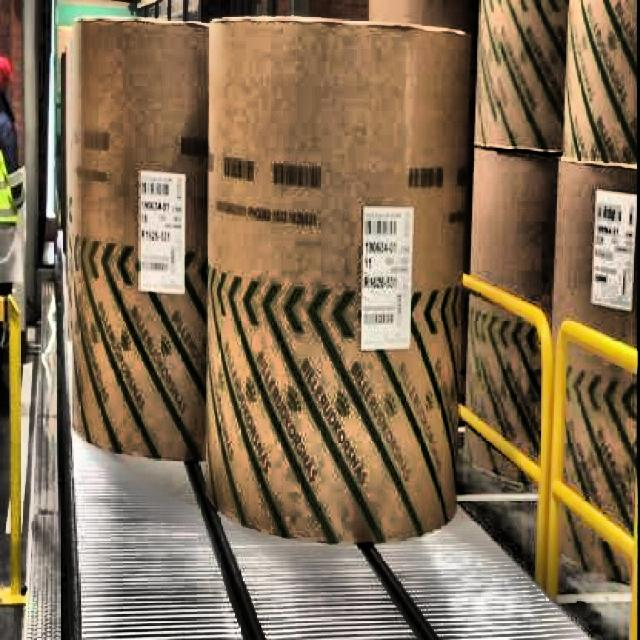Cardbox: (140, 0, 508, 566)
